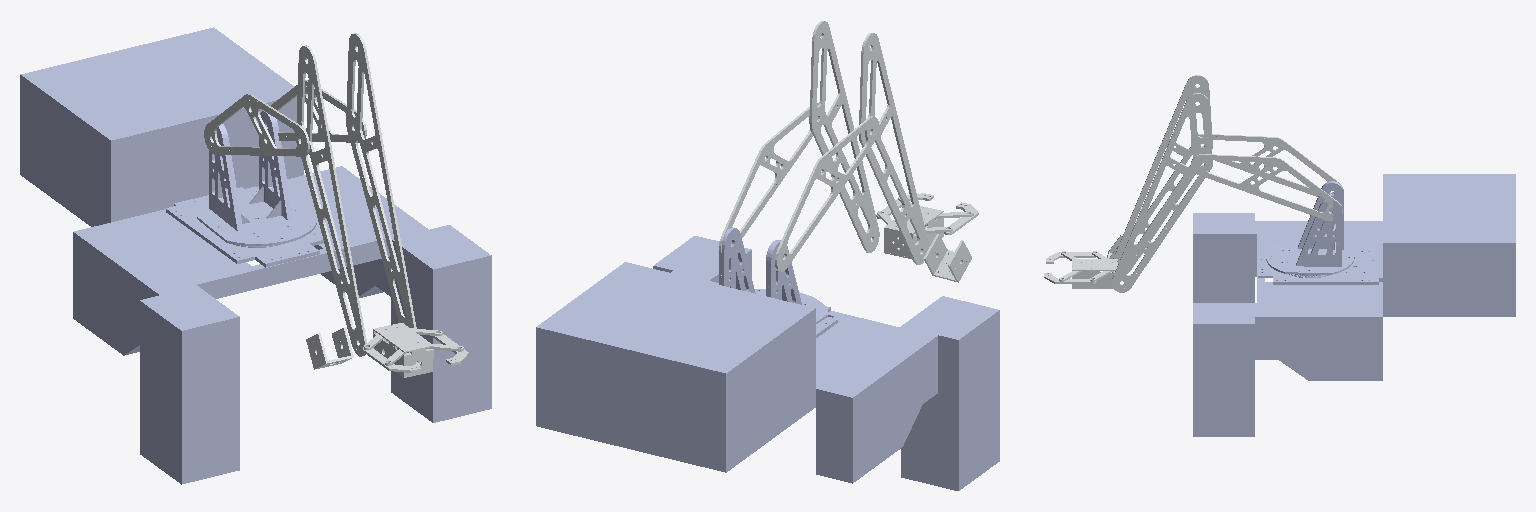
The robot description file, URDF, robot "arm":
<?xml version="1.0" encoding="utf-8"?>
<!-- This URDF was automatically created by SolidWorks to URDF Exporter! Originally created by [author] ([email redacted]) 
     Commit Version: 1.6.0-4-g7f85cfe  Build Version: 1.6.7995.38578
     For more information, please see http://wiki.ros.org/sw_urdf_exporter -->
<robot
  name="arm">
  <link
    name="arm_base_footprint">
    <inertial>
      <origin
        xyz="0.0245718759576531 0.0699463467606602 0.0971703622253317"
        rpy="0 0 0" />
      <mass
        value="119.491304287739" />
      <inertia
        ixx="15.3504436258168"
        ixy="-1.83243379729663E-06"
        ixz="3.96596317304928E-07"
        iyy="9.79865788195426"
        iyz="-4.36312632292381"
        izz="19.953186801234" />
    </inertial>
    <visual>
      <origin xyz="0 0 0" rpy="0 0 0" />
      <geometry>
        <mesh
          filename="package://robot_description/meshes/arm_base_footprint.STL" />
      </geometry>
      <material
        name="">
        <color
          rgba="0.792156862745098 0.819607843137255 0.933333333333333 1" />
      </material>
    </visual>
    <collision>
      <origin
        xyz="0 0 0"
        rpy="0 0 0" />
      <geometry>
        <mesh
          filename="package://robot_description/meshes/arm_base_footprint.STL" />
      </geometry>
    </collision>
  </link>
  <link
    name="arm_base">
    <inertial>
      <origin
        xyz="-0.0295481367181956 -7.2596956674463E-05 0.0797519788008734"
        rpy="0 0 0" />
      <mass
        value="3.22741129215856" />
      <inertia
        ixx="0.0149295089781395"
        ixy="1.40113881543754E-05"
        ixz="0.00163251860516278"
        iyy="0.0188400698128559"
        iyz="-1.46497334752305E-07"
        izz="0.0151539463795049" />
    </inertial>
    <visual>
      <origin
        xyz="0 0 0"
        rpy="0 0 0" />
      <geometry>
        <mesh
          filename="package://robot_description/meshes/arm_base.STL" />
      </geometry>
      <material
        name="">
        <color
          rgba="0.796078431372549 0.823529411764706 0.937254901960784 1" />
      </material>
    </visual>
    <collision>
      <origin
        xyz="0 0 0"
        rpy="0 0 0" />
      <geometry>
        <mesh
          filename="package://robot_description/meshes/arm_base.STL" />
      </geometry>
    </collision>
  </link>
  <joint
    name="arm_base_joint"
    type="revolute">
    <origin
      xyz="0.025047 -0.11824 0.13851"
      rpy="0 0 -1.5708" />
    <parent
      link="arm_base_footprint" />
    <child
      link="arm_base" />
    <axis
      xyz="0 0 1" />
    <limit
      lower="-1.57"
      upper="1.57"
      effort="10"
      velocity="10" />
  </joint>
  <link
    name="arm_shoulder">
    <inertial>
      <origin
        xyz="0.207946774744531 0.076200117432586 0.102327743304316"
        rpy="0 0 0" />
      <mass
        value="0.974957548893571" />
      <inertia
        ixx="0.00464714367493189"
        ixy="2.88504043981202E-09"
        ixz="-0.00681141145821842"
        iyy="0.0241635485497036"
        iyz="-1.31219210890953E-12"
        izz="0.0195229574439722" />
    </inertial>
    <visual>
      <origin
        xyz="0 0 0"
        rpy="0 0 0" />
      <geometry>
        <mesh
          filename="package://robot_description/meshes/arm_shoulder.STL" />
      </geometry>
      <material name="">
        <color rgba="0.898039215686275 0.917647058823529 0.929411764705882 1" />
      </material>
    </visual>
    <collision>
      <origin xyz="0 0 0" rpy="0 0 0" />
      <geometry>
        <mesh
          filename="package://robot_description/meshes/arm_shoulder.STL" />
      </geometry>
    </collision>
  </link>
  <joint
    name="arm_shoulder_joint"
    type="revolute">
    <origin
      xyz="-0.06985 -0.079375 0.22575"
      rpy="0 0 0" />
    <parent
      link="arm_base" />
    <child
      link="arm_shoulder" />
    <axis
      xyz="0 -1 0" />
    <limit
      lower="-1.57"
      upper="1.57"
      effort="10"
      velocity="10" />
  </joint>
  <link
    name="arm_elbow">
    <inertial>
      <origin
        xyz="0.111915739494498 0.0730249586080684 -0.104967246413695"
        rpy="0 0 0" />
      <mass
        value="1.84402735327987" />
      <inertia
        ixx="0.0740795916752292"
        ixy="3.57897825751704E-09"
        ixz="0.0294977280060405"
        iyy="0.0899370275946363"
        iyz="-1.48592172104255E-08"
        izz="0.0158698288504039" />
    </inertial>
    <visual>
      <origin
        xyz="0 0 0"
        rpy="0 0 0" />
      <geometry>
        <mesh
          filename="package://robot_description/meshes/arm_elbow.STL" />
      </geometry>
      <material
        name="">
        <color
          rgba="0.898039215686275 0.917647058823529 0.929411764705882 1" />
      </material>
    </visual>
    <collision>
      <origin
        xyz="0 0 0"
        rpy="0 0 0" />
      <geometry>
        <mesh
          filename="package://robot_description/meshes/arm_elbow.STL" />
      </geometry>
    </collision>
  </link>
  <joint
    name="arm_elbow_joint"
    type="revolute">
    <origin
      xyz="0.42568 0.003175 0.16682"
      rpy="0 0 0" />
    <parent
      link="arm_shoulder" />
    <child
      link="arm_elbow" />
    <axis
      xyz="0 -1 0" />
    <limit
      lower="-1.57"
      upper="1.57"
      effort="10"
      velocity="10" />
  </joint>
  <link
    name="arm_wrist">
    <inertial>
      <origin
        xyz="0.00758313282101097 0.0762897289232901 -0.00311002129908697"
        rpy="0 0 0" />
      <mass
        value="0.266662965128272" />
      <inertia
        ixx="0.000402648427559369"
        ixy="-4.30156761091757E-07"
        ixz="9.22925138644413E-06"
        iyy="0.000295655638047142"
        iyz="1.29967744259965E-07"
        izz="0.000421094200608104" />
    </inertial>
    <visual>
      <origin
        xyz="0 0 0"
        rpy="0 0 0" />
      <geometry>
        <mesh
          filename="package://robot_description/meshes/arm_wrist.STL" />
      </geometry>
      <material
        name="">
        <color
          rgba="0.898039215686275 0.917647058823529 0.929411764705882 1" />
      </material>
    </visual>
    <collision>
      <origin
        xyz="0 0 0"
        rpy="0 0 0" />
      <geometry>
        <mesh
          filename="package://robot_description/meshes/arm_wrist.STL" />
      </geometry>
    </collision>
  </link>
  <joint
    name="arm_wrist_joint"
    type="revolute">
    <origin
      xyz="0.26467 0 -0.4336"
      rpy="0 0 0" />
    <parent
      link="arm_elbow" />
    <child
      link="arm_wrist" />
    <axis
      xyz="0 1 0" />
    <limit
      lower="-1.57"
      upper="1.57"
      effort="10"
      velocity="10" />
  </joint>
  <link
    name="gripper">
    <inertial>
      <origin
        xyz="0.11719381662859 -0.000382031984489661 -0.0388905363337425"
        rpy="0 0 0" />
      <mass
        value="0.635591580584878" />
      <inertia
        ixx="0.000471236817838301"
        ixy="-1.09915501196386E-06"
        ixz="0.000292461138711607"
        iyy="0.000974390270345733"
        iyz="1.55463249538877E-06"
        izz="0.001068816161597" />
    </inertial>
    <visual>
      <origin
        xyz="0 0 0"
        rpy="0 0 0" />
      <geometry>
        <mesh
          filename="package://robot_description/meshes/gripper.STL" />
      </geometry>
      <material
        name="">
        <color
          rgba="0.898039215686275 0.917647058823529 0.929411764705882 1" />
      </material>
    </visual>
    <collision>
      <origin
        xyz="0 0 0"
        rpy="0 0 0" />
      <geometry>
        <mesh
          filename="package://robot_description/meshes/gripper.STL" />
      </geometry>
    </collision>
  </link>
  <joint
    name="gripper_joint"
    type="revolute">
    <origin
      xyz="0.004356 0.074295 -0.0010894"
      rpy="0 0 0" />
    <parent
      link="arm_wrist" />
    <child
      link="gripper" />
    <axis
      xyz="1 0 0" />
    <limit
      lower="-1.57"
      upper="1.57"
      effort="10"
      velocity="10" />
  </joint>
</robot>

--- Render facts (derived) ---
3 views of the same robot in one strip: view 1: azimuth 30°, elevation 25°; view 2: azimuth 150°, elevation 25°; view 3: azimuth 270°, elevation 25° (orthographic).
Robot: arm — 6 links, 5 joints (5 revolute); root link arm_base_footprint; default pose: every joint at zero.
Visible links, largest first — view 1: arm_base_footprint, arm_elbow, arm_base, arm_shoulder, gripper, arm_wrist; view 2: arm_base_footprint, arm_elbow, arm_shoulder, arm_base, gripper, arm_wrist; view 3: arm_base_footprint, arm_elbow, arm_base, arm_shoulder, gripper.
Link boxes in pixels (bbox=[...]): arm_base_footprint: bbox=[20, 27, 491, 484]; arm_elbow: bbox=[297, 33, 416, 356]; arm_base: bbox=[197, 111, 316, 246]; arm_shoulder: bbox=[204, 80, 366, 156]; gripper: bbox=[363, 323, 468, 377]; arm_wrist: bbox=[306, 327, 353, 369]; arm_base_footprint: bbox=[536, 236, 999, 490]; arm_elbow: bbox=[809, 21, 928, 264]; arm_shoulder: bbox=[719, 103, 878, 271]; arm_base: bbox=[719, 227, 827, 323]; gripper: bbox=[876, 193, 978, 258]; arm_wrist: bbox=[923, 234, 971, 282]; arm_base_footprint: bbox=[1193, 174, 1515, 436]; arm_elbow: bbox=[1112, 75, 1212, 292]; arm_base: bbox=[1266, 181, 1354, 277]; arm_shoulder: bbox=[1191, 134, 1342, 221]; gripper: bbox=[1044, 251, 1117, 288].
Size in the robot's own frame: 0.866 by 1.55 by 1.08 metres.
6 mesh visuals loaded from 6 distinct referenced files (6 binary STL).
